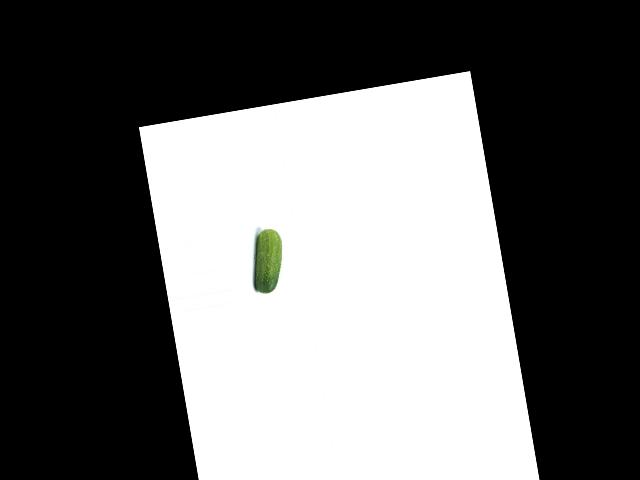cucumber: (245, 227, 289, 295)
